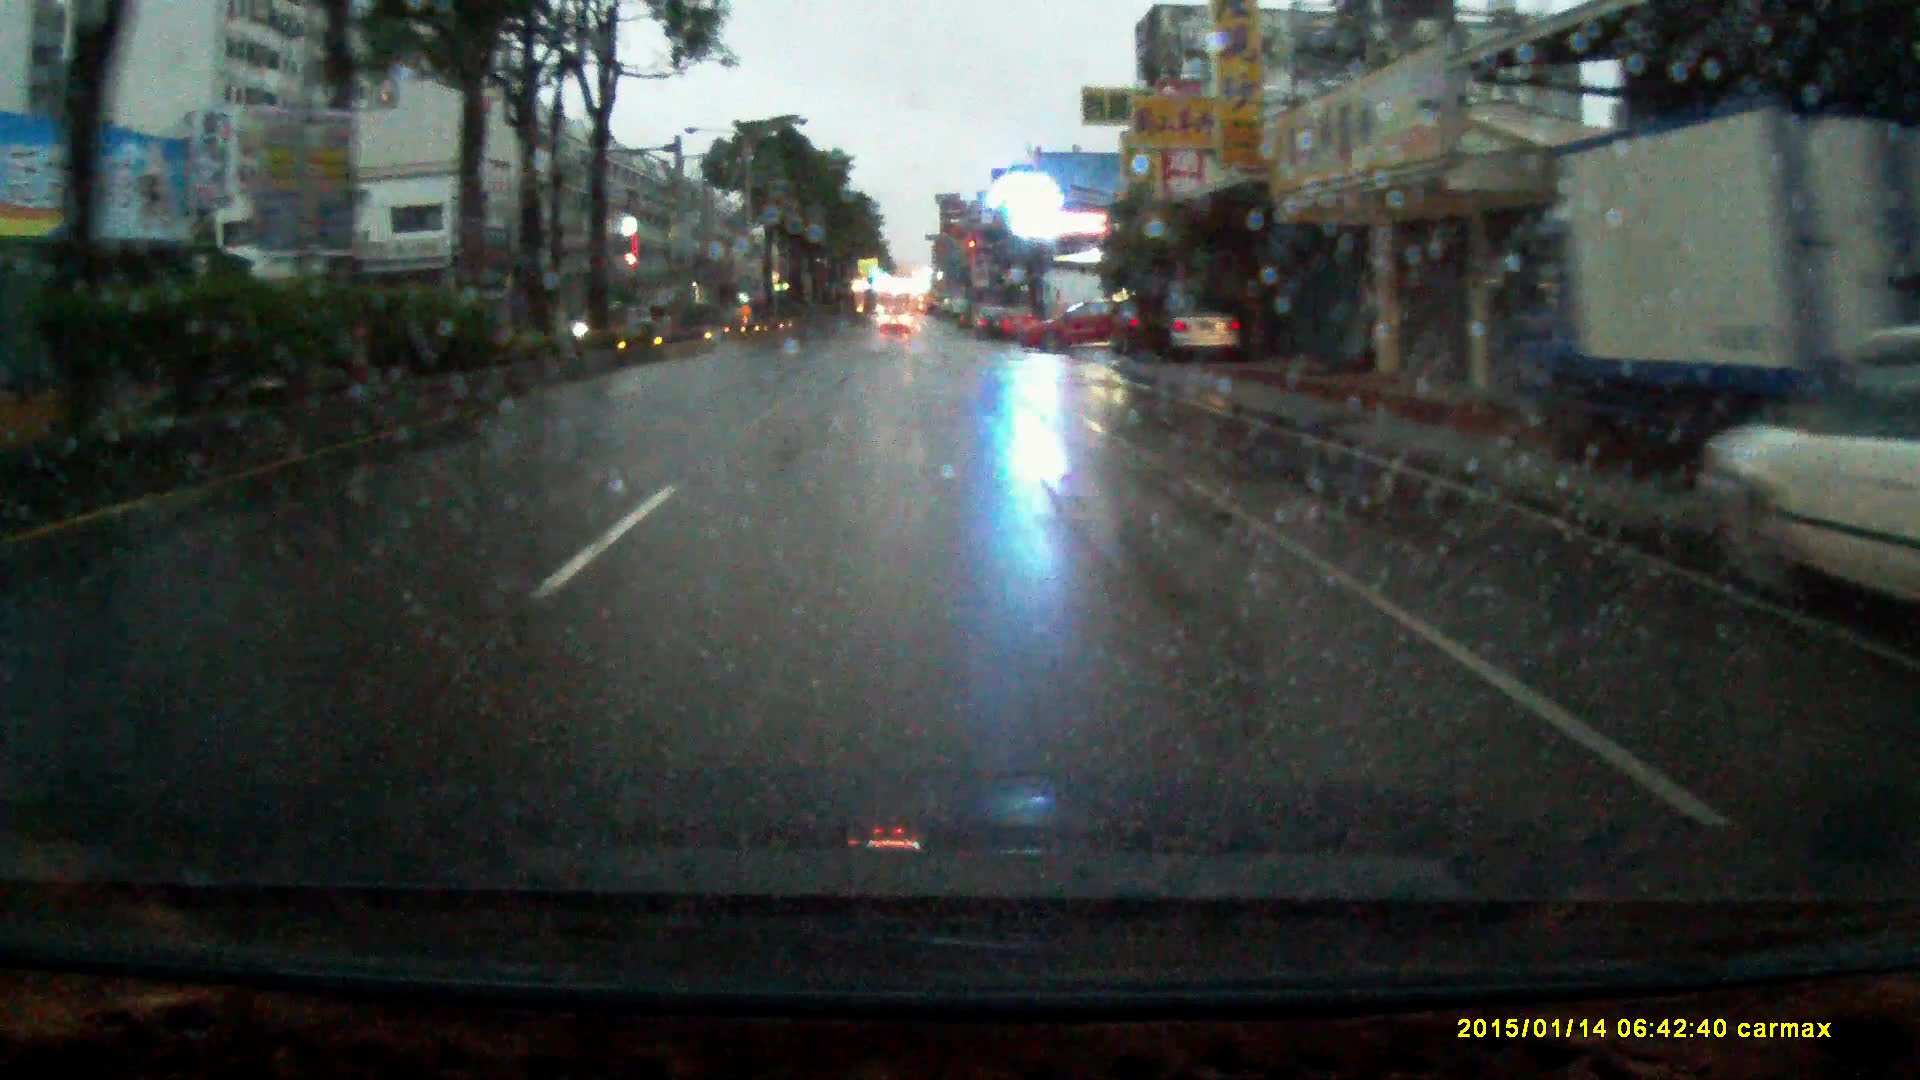vehicle: (1491, 98, 1884, 454), (1019, 294, 1145, 349), (1162, 291, 1247, 357), (1110, 293, 1182, 355), (998, 298, 1040, 334), (880, 306, 911, 334)
